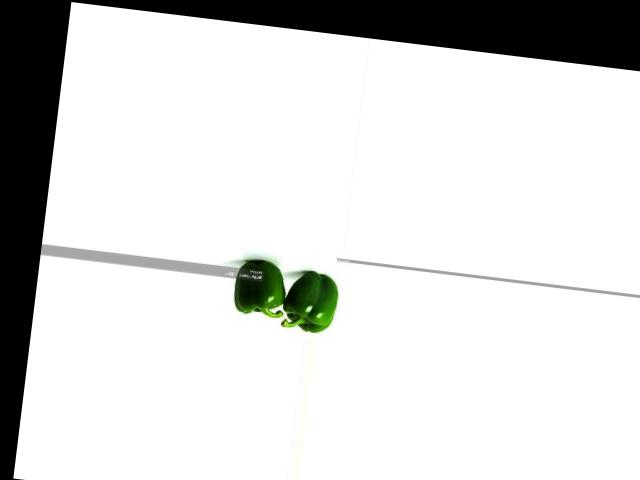bell_pepper: (281, 260, 341, 338)
